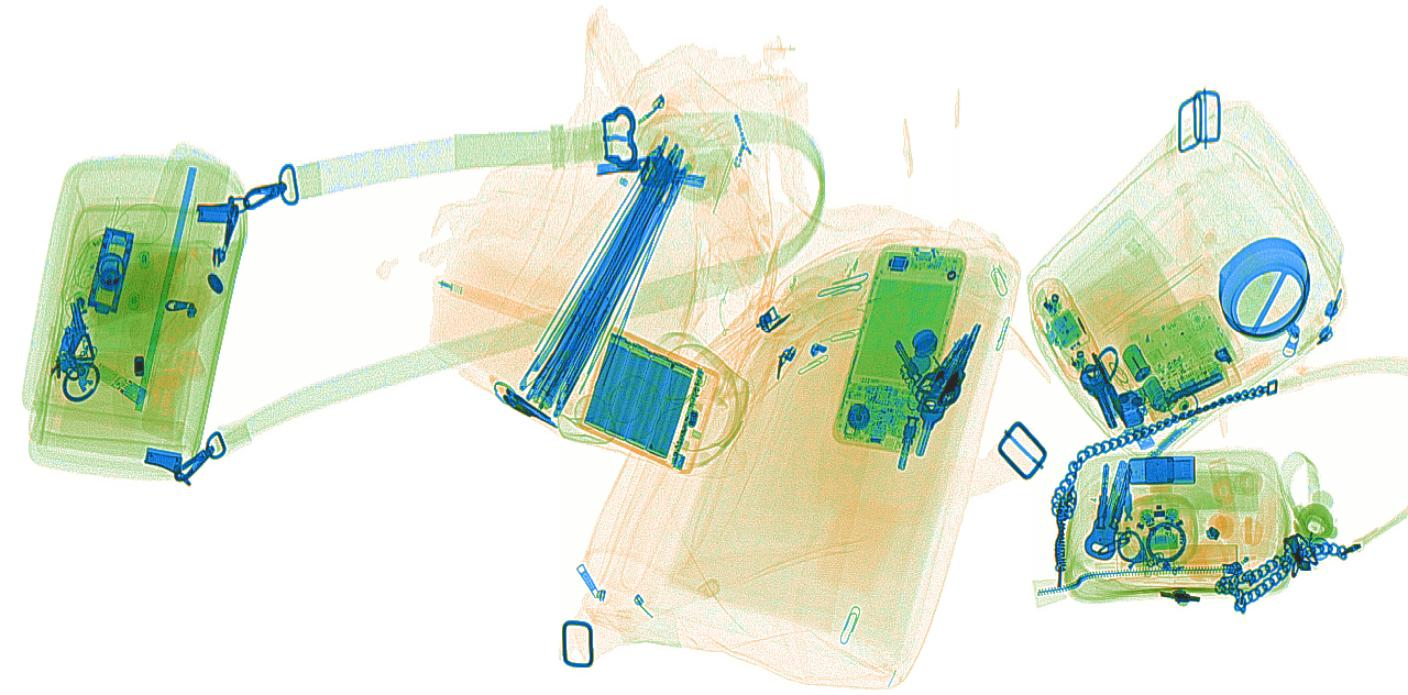USBFlashDisk: (1114, 386, 1158, 454), (88, 364, 149, 408), (1125, 452, 1195, 488)
battery: (581, 326, 722, 475)
